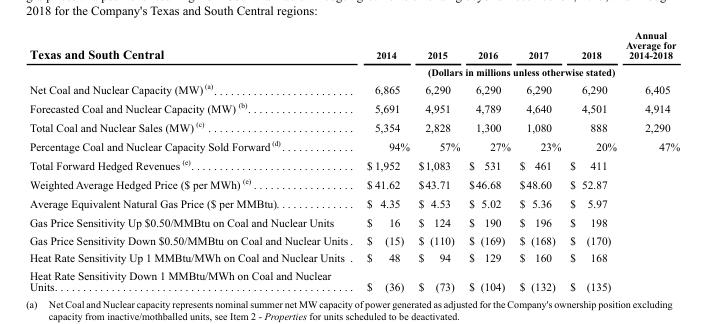table: (28, 29, 679, 292)
table column: (28, 29, 359, 292), (620, 29, 679, 292), (564, 29, 620, 292), (359, 29, 413, 292), (463, 29, 514, 292), (413, 29, 463, 292), (514, 29, 564, 292)
table column header: (28, 29, 679, 79)
table row: (28, 29, 679, 63), (28, 266, 679, 292), (28, 135, 679, 155), (28, 173, 679, 193), (28, 79, 679, 98), (28, 98, 679, 117), (28, 193, 679, 212), (28, 117, 679, 135), (28, 155, 679, 173), (28, 212, 679, 230), (28, 230, 679, 248), (28, 248, 679, 266), (28, 63, 679, 79)
table spanning cell: (28, 29, 359, 79), (359, 63, 679, 79)
